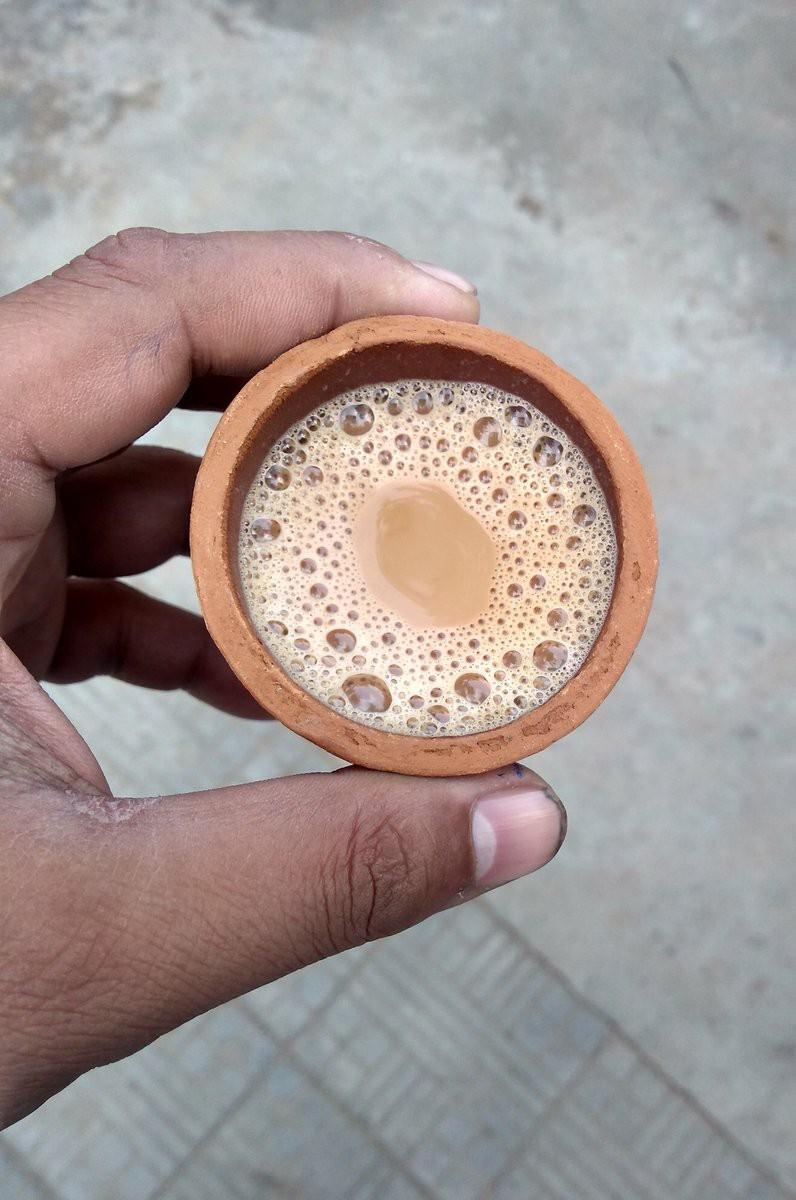Chai: (241, 375, 616, 739)
